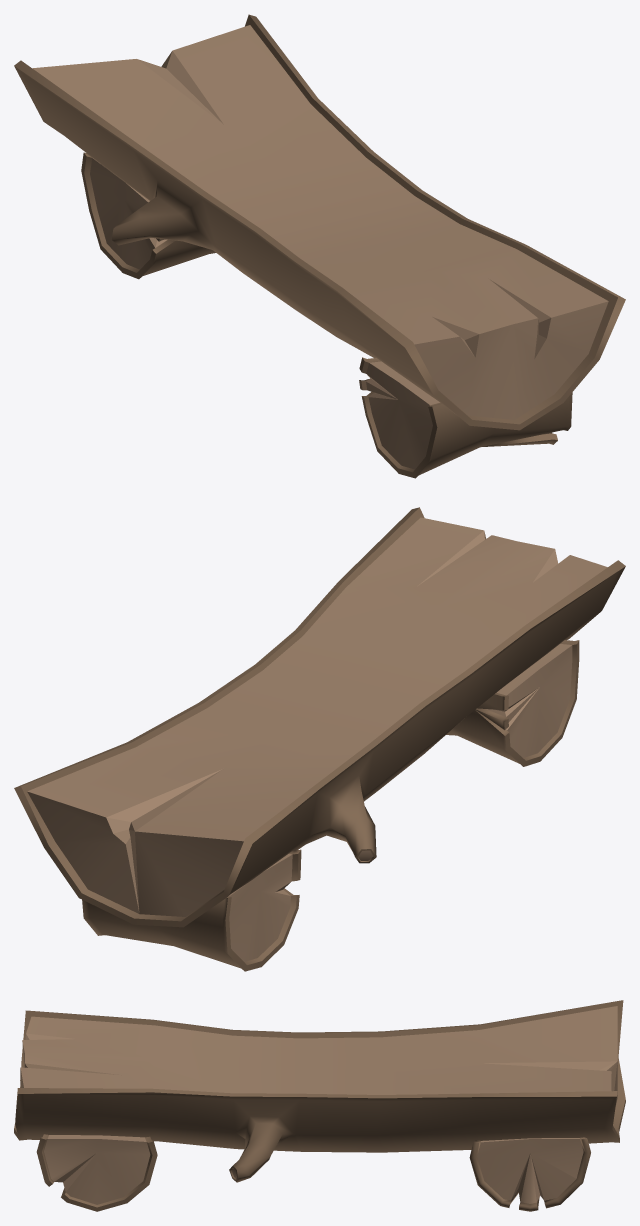
Rendered from P_bench_02.fbx.
The picture shows the model from 3 angles, top to bottom: view 1: azimuth 30°, elevation 25°; view 2: azimuth 150°, elevation 25°; view 3: azimuth 270°, elevation 25°; orthographic projection. The views are drawn at different scales.
Parts seen in each view (by area): view 1: lod1; view 2: lod1; view 3: lod1.
Part boxes in pixels (<box>): lod1: <box>14,14,625,478</box>; lod1: <box>14,507,625,971</box>; lod1: <box>14,1000,625,1211</box>.
Size of what is drawn, in the model's own units: 66.74 by 45.83 by 179.
1 material, 1 textured.
